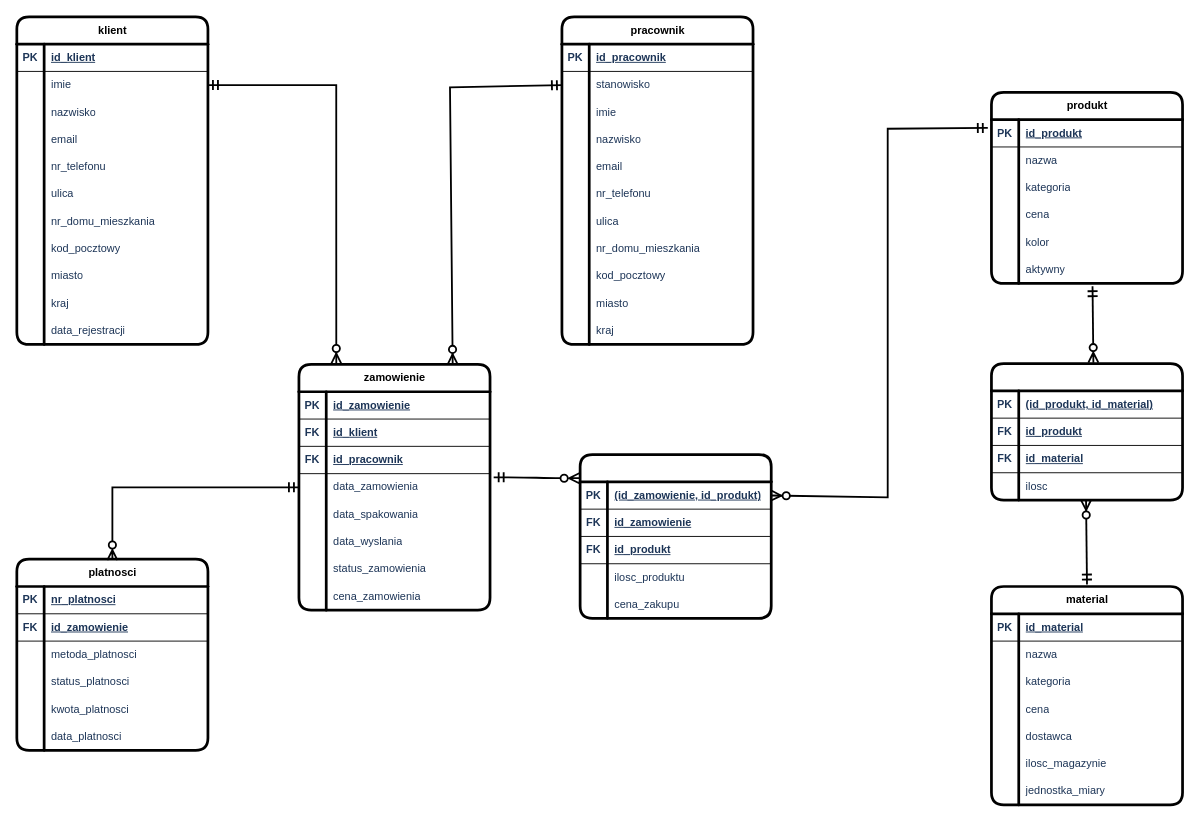
The diagram is 1199 pixels wide and 822 high, and some of its shapes have lost their labels. Here are the shapes that lost their labels. From the top down, the box of each, then its label:
(990, 362, 1183, 501): material_produktu
(578, 453, 772, 619): zamowiony_produkt
